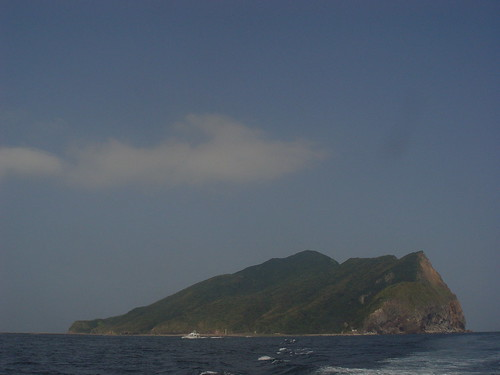turtleIsland: (66, 242, 467, 332)
